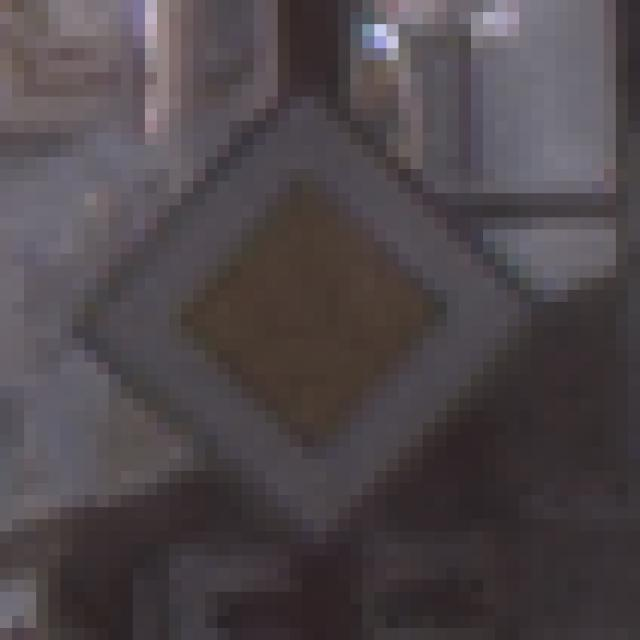Main Road: (62, 62, 581, 581)
